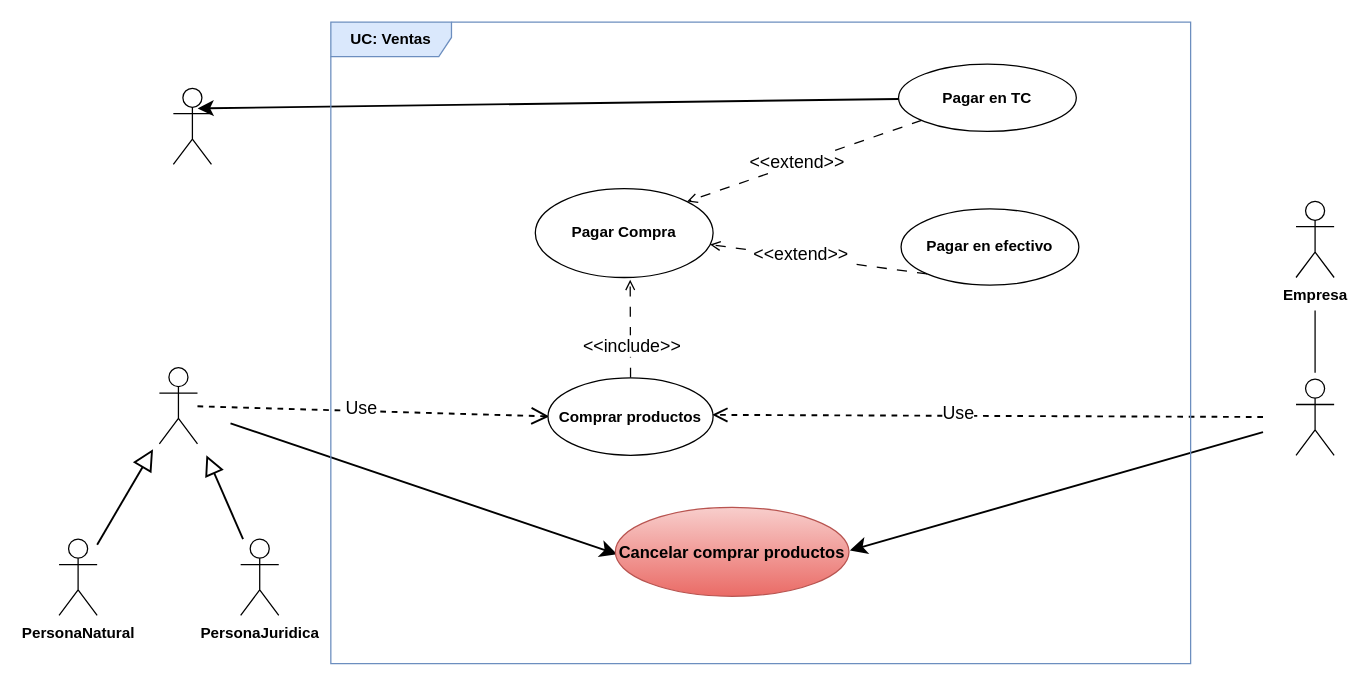
This 1369x686 diagram has some shape labels left out. The box of each missing label's shape, as (x1, y1, x2, y2) in pixels:
Cajero: (1295, 378, 1334, 455)
Cliente: (158, 366, 197, 444)
TC: (172, 87, 211, 164)
